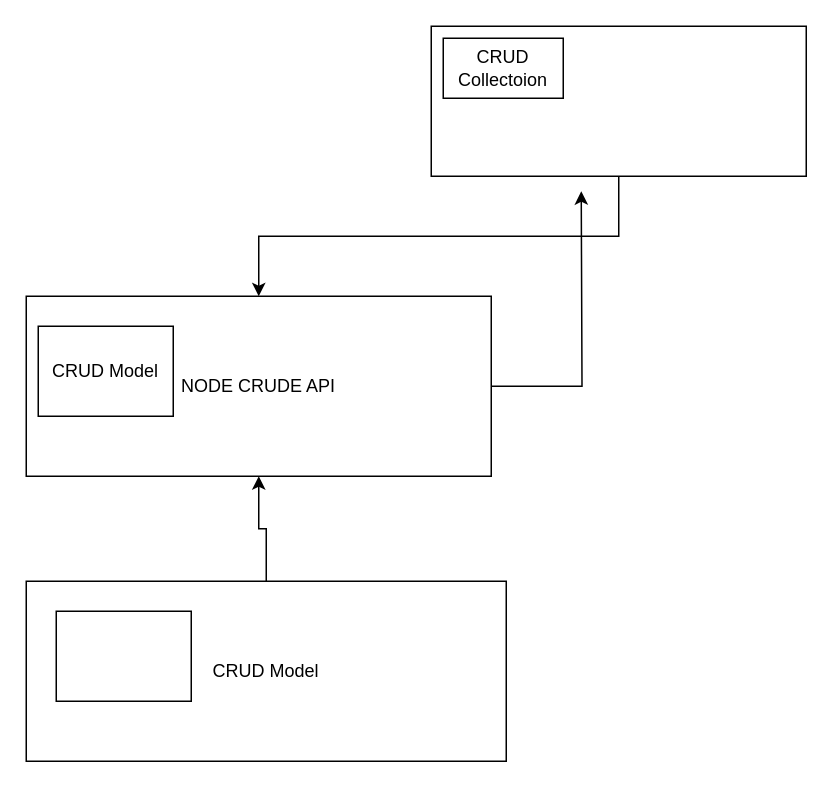
Image size: 833x788. Some labels were removed from this diagram. Each missing label, with the box of its shape:
CRUD Schema: (55, 610, 191, 701)
MongoDB: (430, 25, 806, 176)
